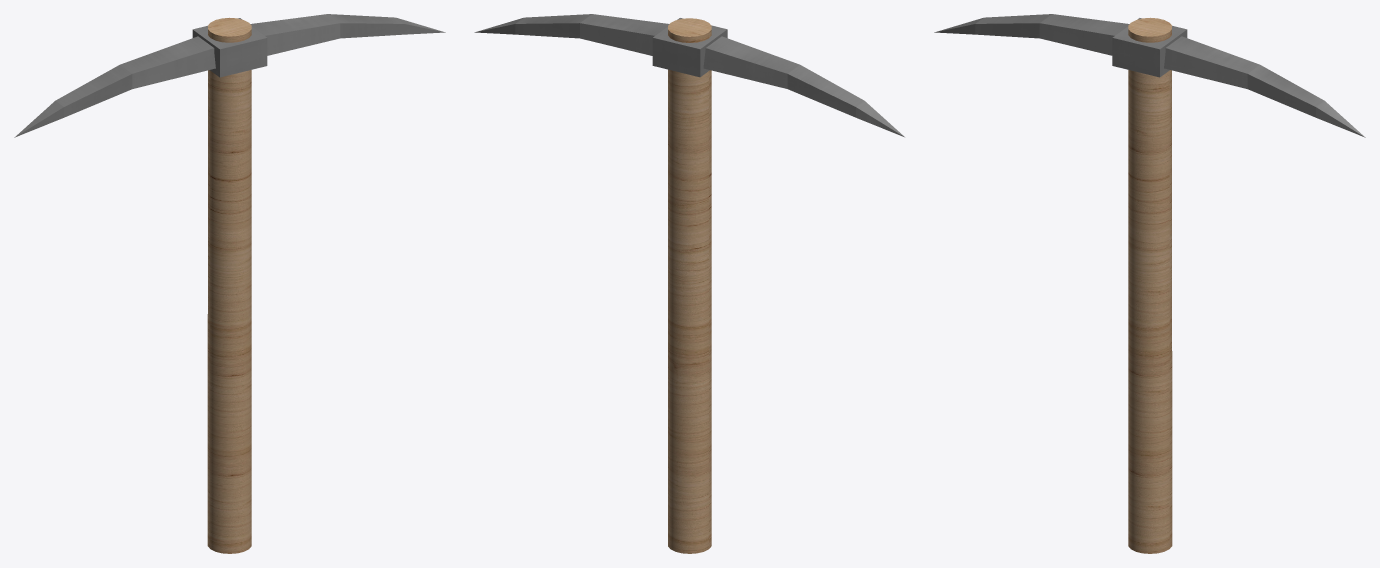
Rendered from PickaxeComplete.fbx.
The picture shows the model from 3 angles, left to right: view 1: azimuth 30°, elevation 25°; view 2: azimuth 150°, elevation 25°; view 3: azimuth 330°, elevation 25°; orthographic projection.
Parts seen in each view (by area): view 1: Box001; view 2: Box001; view 3: Box001.
Boxes of the visible parts, bbox=[...] form: Box001: bbox=[14, 14, 445, 553]; Box001: bbox=[474, 14, 904, 553]; Box001: bbox=[934, 14, 1365, 553].
Bounding box in the file's own units: 205 × 235 × 22.45.
